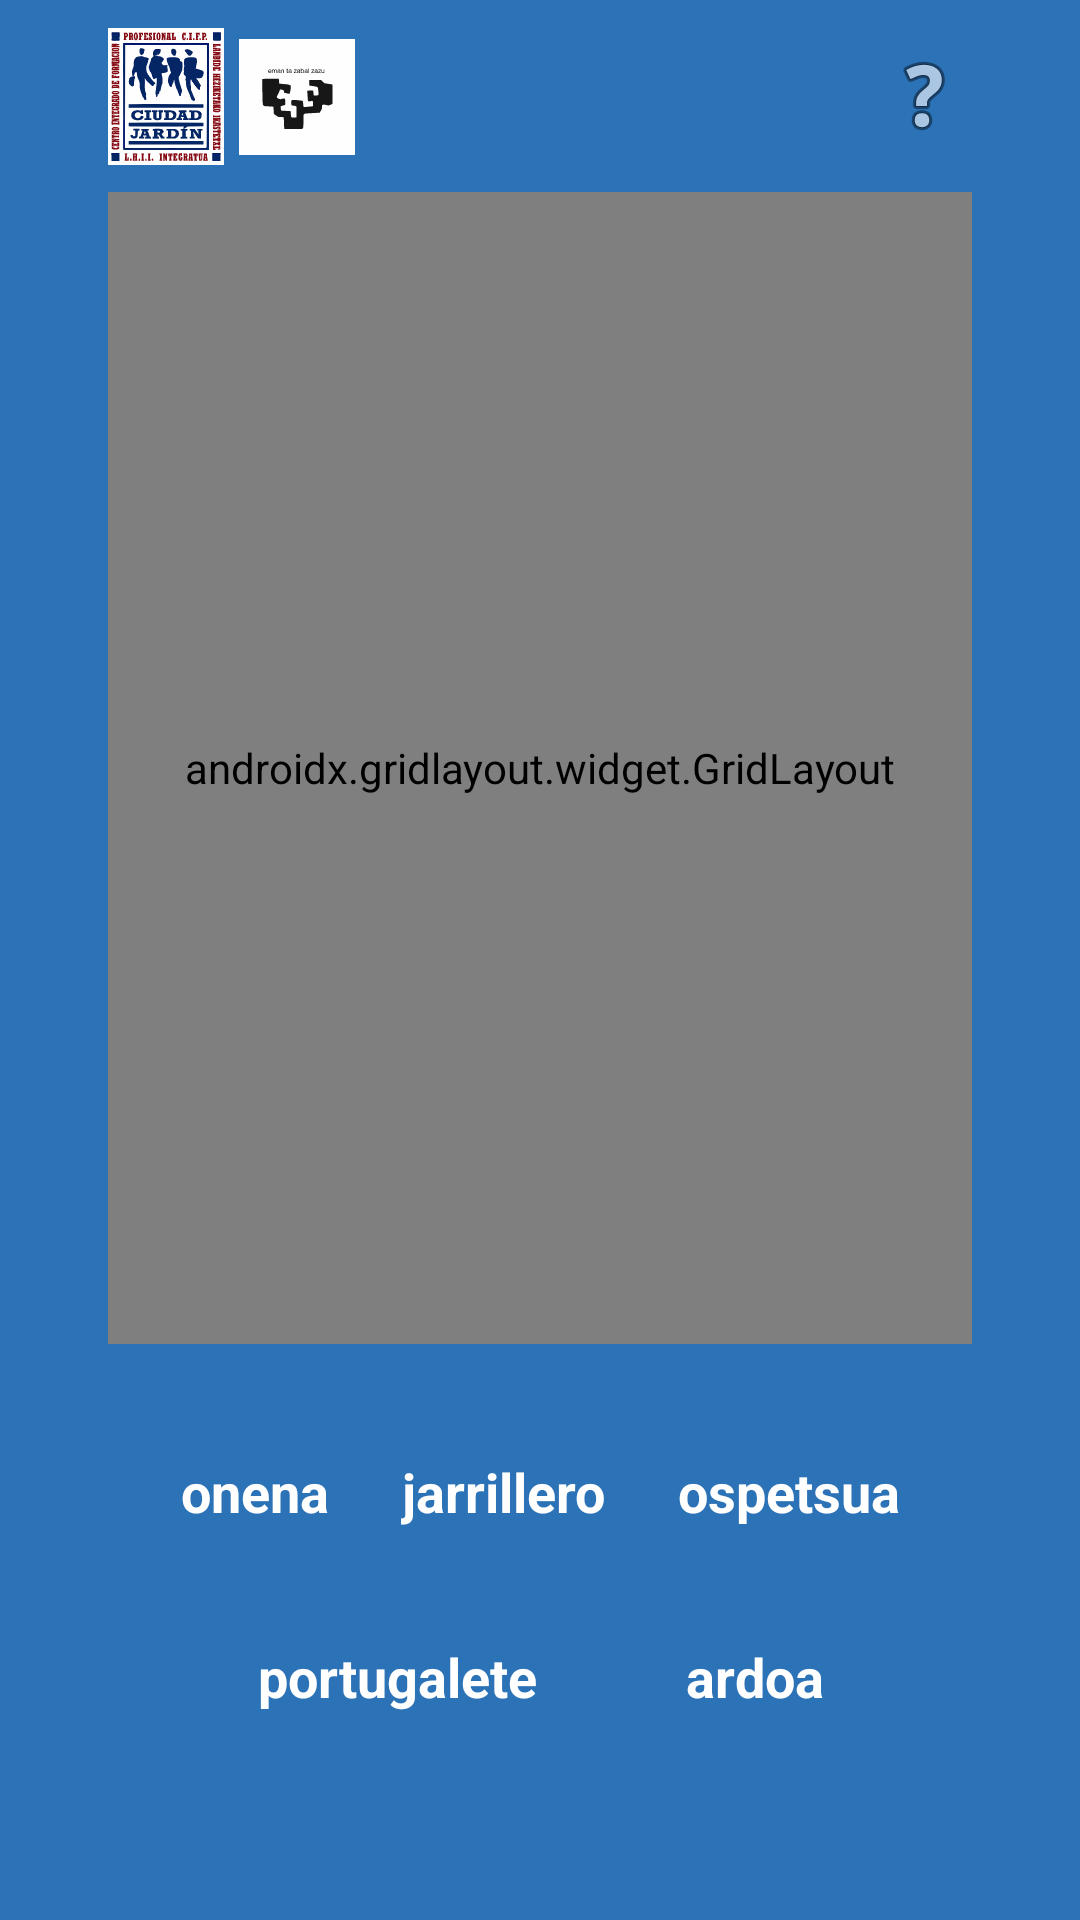

Icon click points for this 1080*1920 phone screenshot, format (x,y):
help: (924,96)
